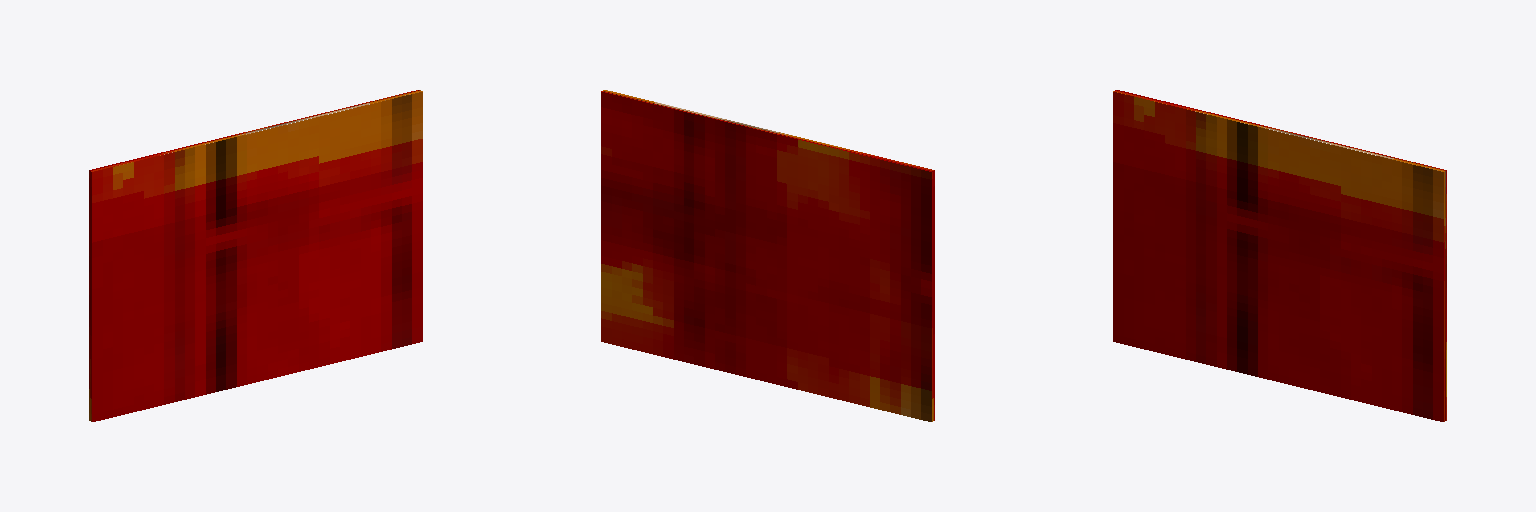
The picture shows the model from 3 angles: view 1: azimuth 30°, elevation 25°; view 2: azimuth 150°, elevation 25°; view 3: azimuth 330°, elevation 25°; orthographic projection.
Visible parts, largest first — view 1: Cube; view 2: Cube; view 3: Cube.
Part boxes in pixels (left/top/right/bottom): Cube: left=89, top=90, right=422, bottom=421; Cube: left=601, top=90, right=934, bottom=421; Cube: left=1113, top=90, right=1446, bottom=421.
Bounding box in the file's own units: 19.86 × 14.38 × 0.2948.
Materials: 1 (1 with a texture image).